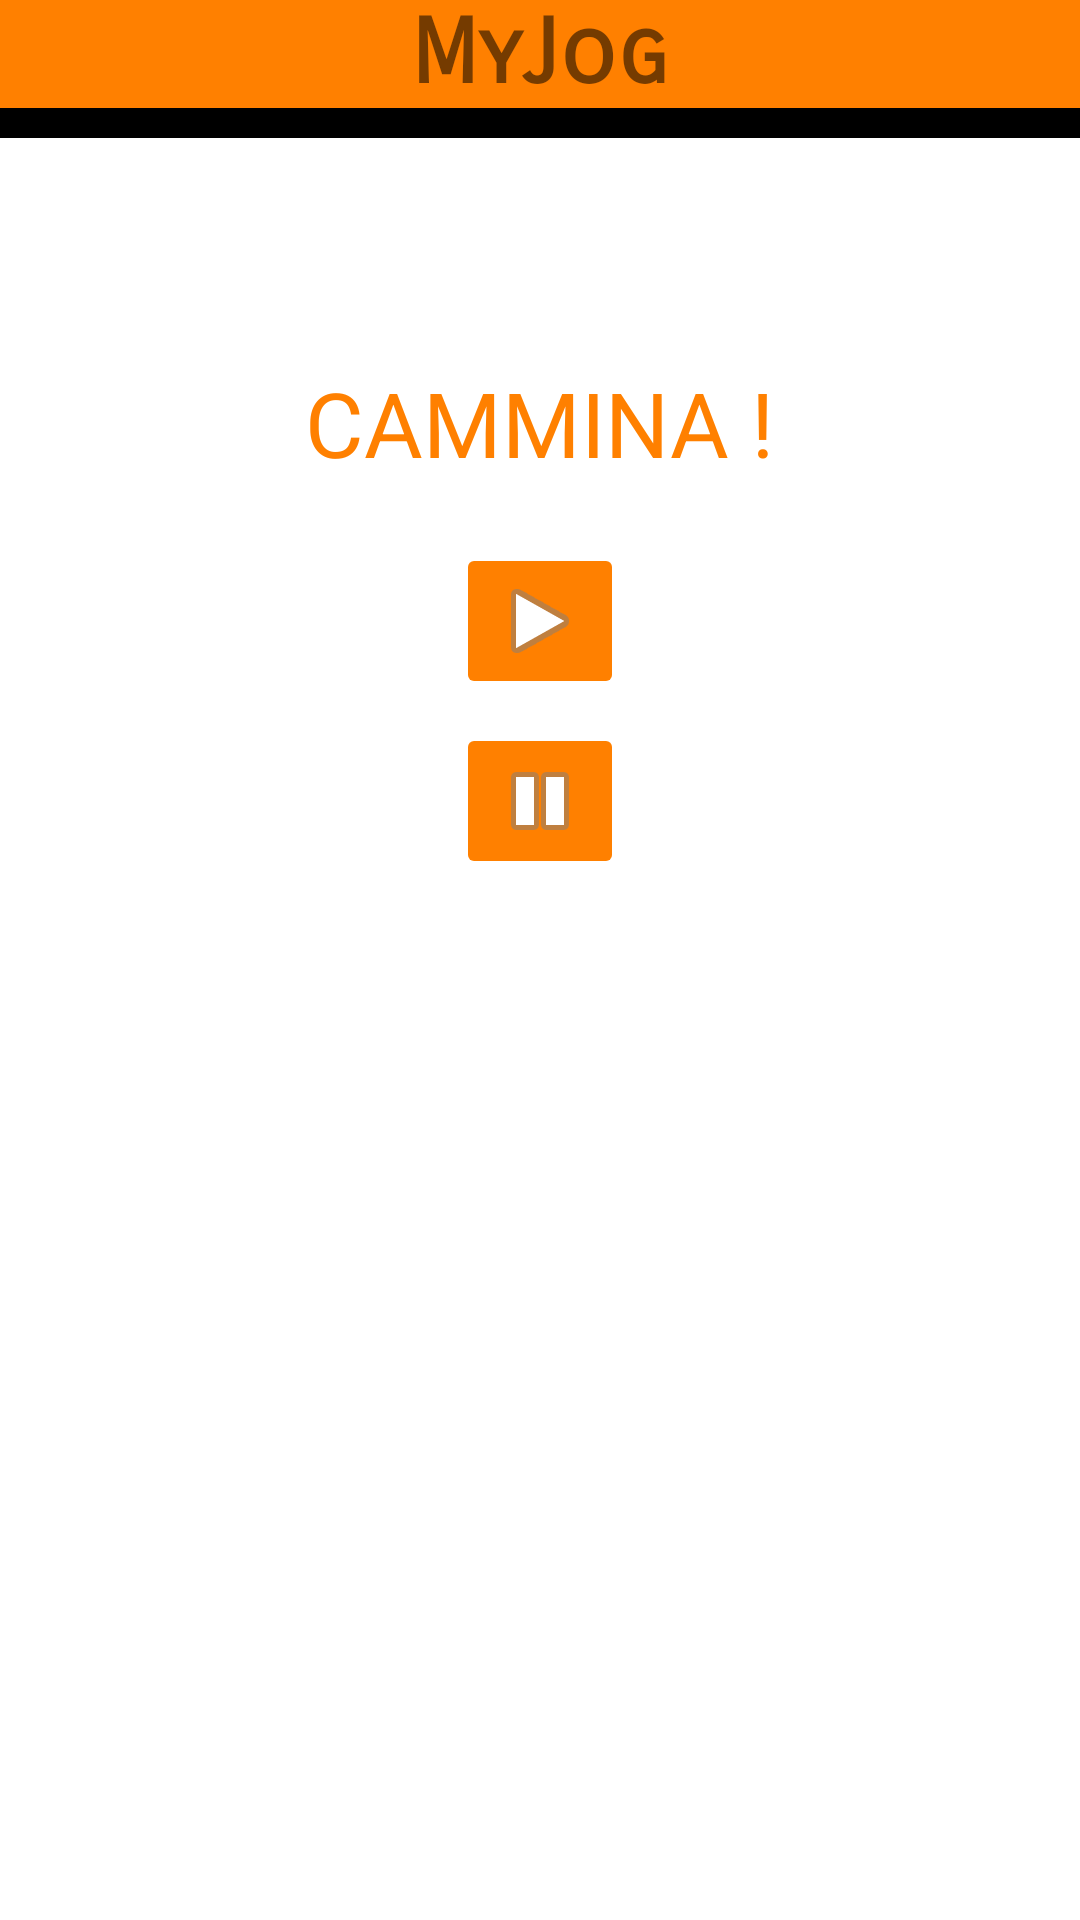

Icons on this 1080px×1920px Android screen, each with its box as (left=x1, top=y1, right=x2, bottom=y2):
pause: (left=468, top=741, right=612, bottom=861)
play: (left=468, top=561, right=612, bottom=681)
